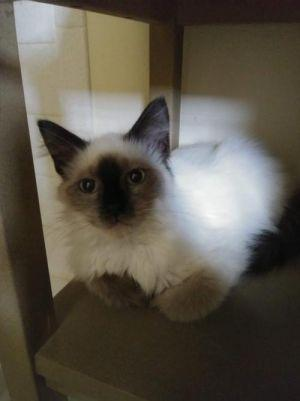siamese: (33, 86, 188, 245)
